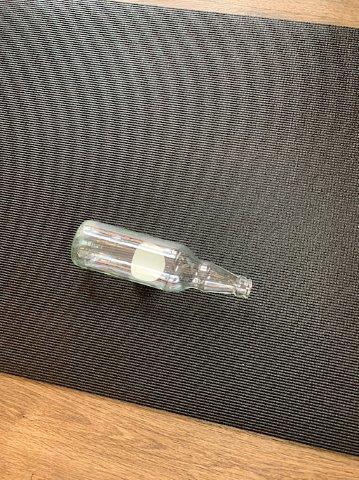botolkaca: (69, 219, 255, 298)
